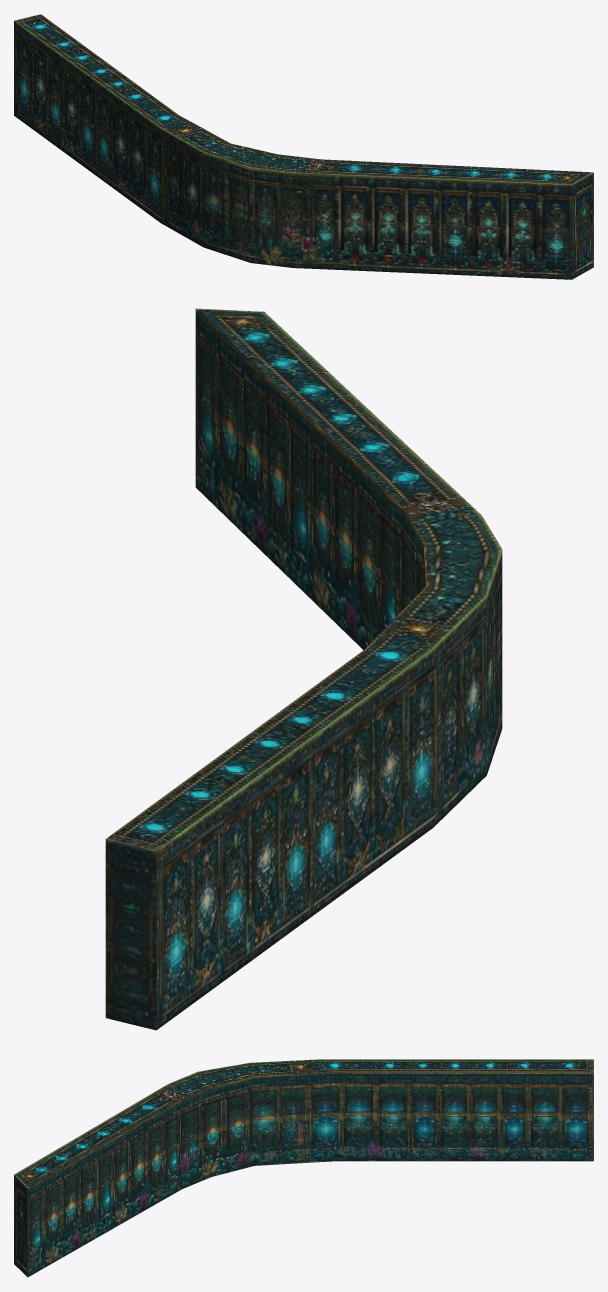
Rendered from ramp_pale_down_left_death_lvl_2.glb.
3 renders of one model, top to bottom at view 1: azimuth 30°, elevation 25°; view 2: azimuth 150°, elevation 25°; view 3: azimuth 270°, elevation 25°, orthographic. The views are drawn at different scales.
Visible parts, largest first — view 1: Mesh_0.007; view 2: Mesh_0.007; view 3: Mesh_0.007.
Boxes of the visible parts, x1,y1,x2,y2 form: Mesh_0.007: [14, 14, 593, 279]; Mesh_0.007: [105, 308, 502, 1030]; Mesh_0.007: [14, 1059, 593, 1277].
Bounding box in the file's own units: 0.1275 × 0.0414 × 0.2431.
Materials: 1 (1 with a texture image).
